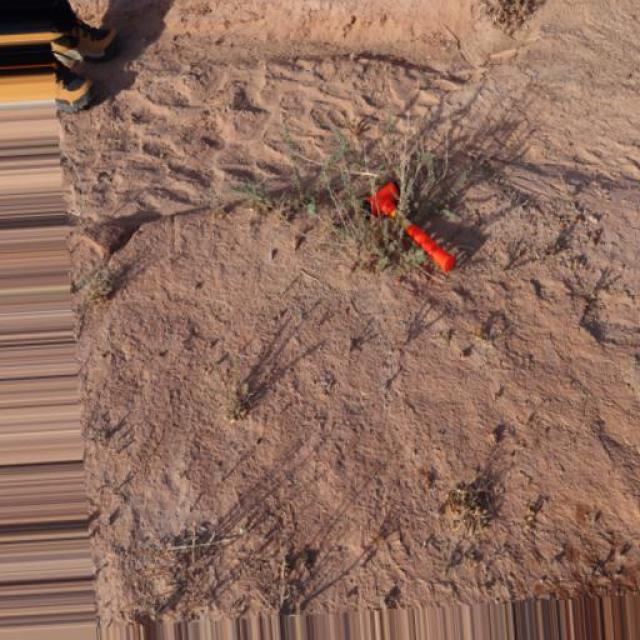mallet: (365, 178, 459, 274)
